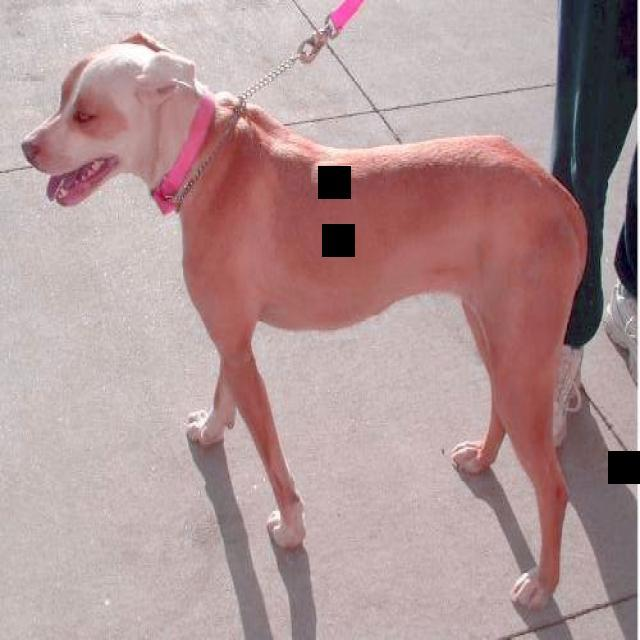adult_dog: (21, 27, 593, 616)
